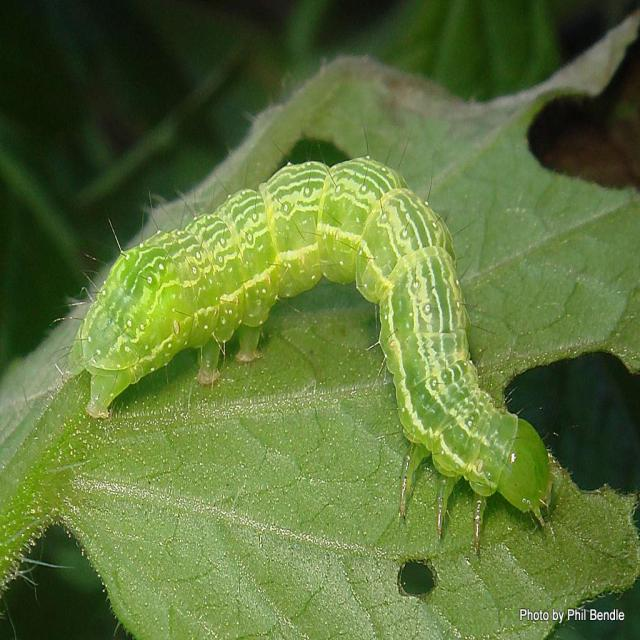armyworm: (80, 155, 556, 530)
